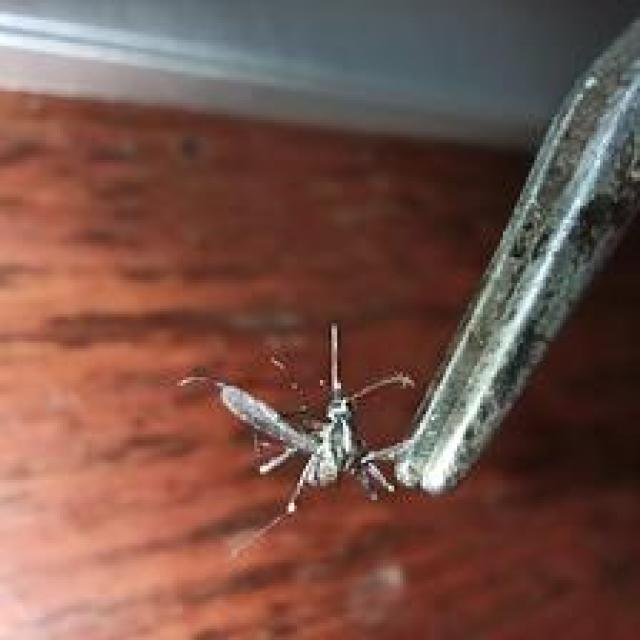Aedes albopictus: (175, 320, 418, 557)
